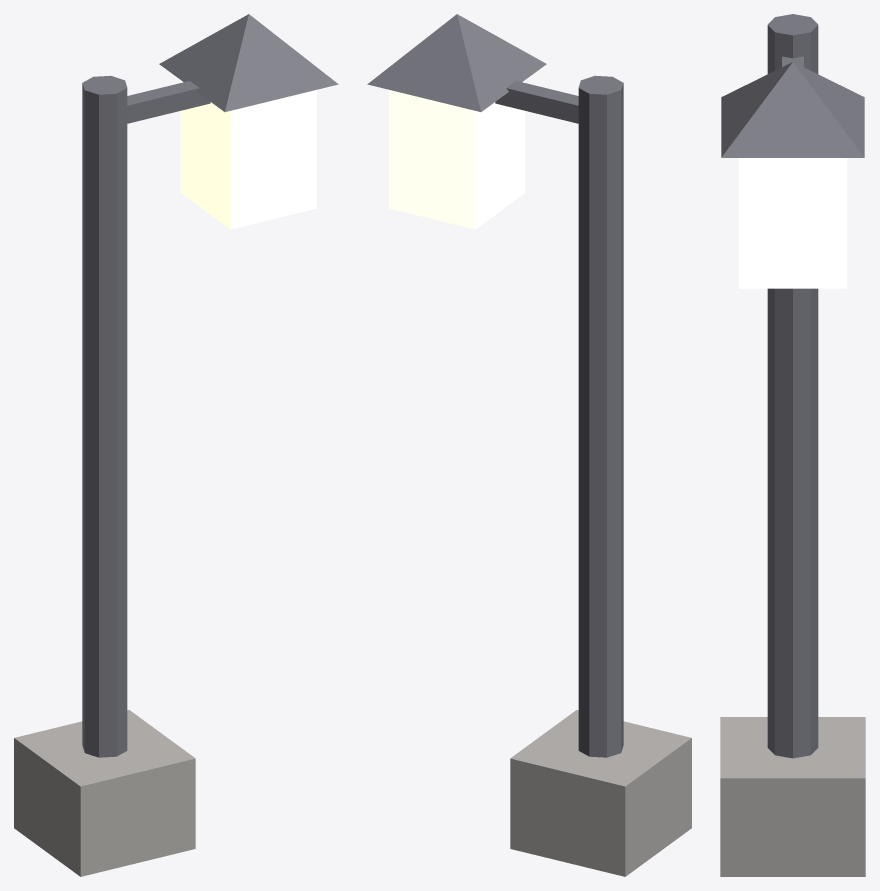
Rendered from LampPost.glb.
The picture shows the model from 3 angles, left to right: view 1: azimuth 30°, elevation 25°; view 2: azimuth 150°, elevation 25°; view 3: azimuth 270°, elevation 25°; orthographic projection. The views are drawn at different scales.
Parts seen in each view (by area): view 1: LampPost_Pole, LampPost_Base, LampPost_Lantern, LampPost_Roof, LampPost_Arm; view 2: LampPost_Pole, LampPost_Base, LampPost_Lantern, LampPost_Roof, LampPost_Arm; view 3: LampPost_Pole, LampPost_Base, LampPost_Lantern, LampPost_Roof.
Part boxes in pixels (box(x1,y1,x2,y2)): LampPost_Pole: box(82, 75, 127, 757); LampPost_Base: box(14, 710, 195, 876); LampPost_Lantern: box(180, 80, 316, 229); LampPost_Roof: box(159, 14, 338, 111); LampPost_Arm: box(127, 81, 210, 123); LampPost_Pole: box(578, 75, 623, 757); LampPost_Base: box(510, 710, 691, 876); LampPost_Lantern: box(389, 80, 525, 229); LampPost_Roof: box(367, 14, 546, 111); LampPost_Arm: box(495, 81, 578, 123); LampPost_Pole: box(767, 14, 818, 758); LampPost_Base: box(720, 717, 865, 876); LampPost_Lantern: box(738, 158, 847, 288); LampPost_Roof: box(721, 62, 864, 157).
Size of the model in its own units: 0.898 by 2.62 by 0.4.
